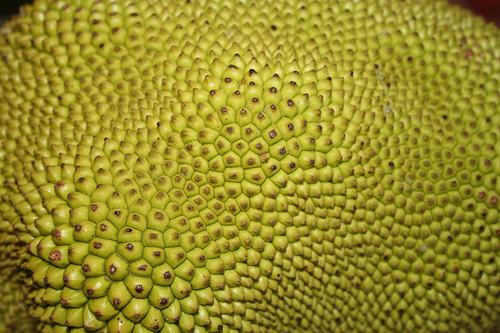jackfruit: (2, 0, 498, 332)
